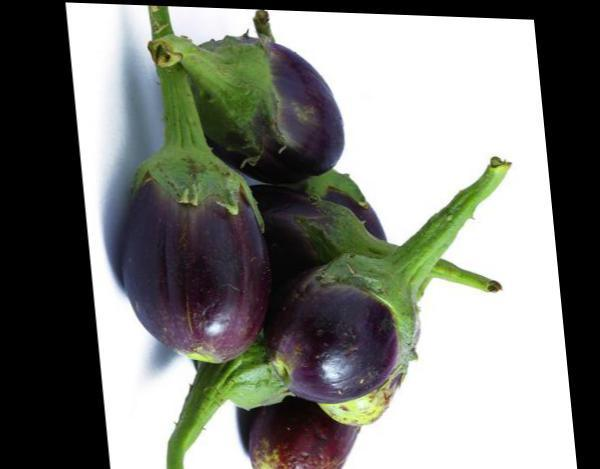eggplant: (89, 2, 500, 468), (82, 3, 280, 414), (264, 182, 497, 461), (153, 4, 350, 186)
